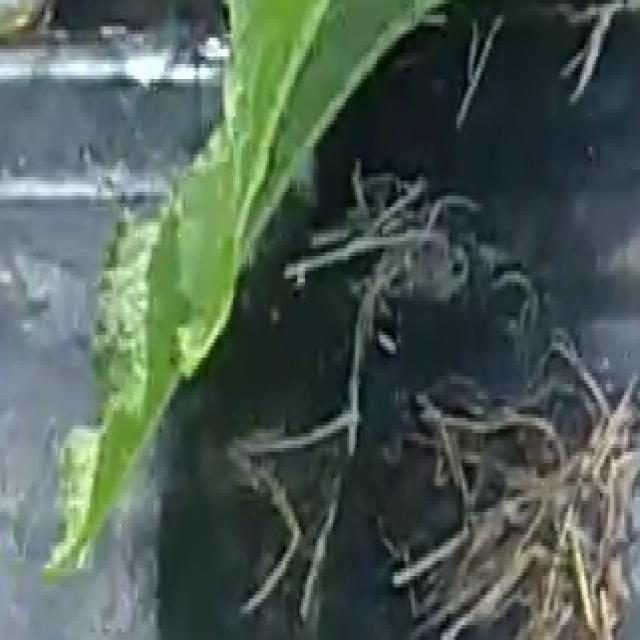organic waste: (60, 0, 464, 629)
